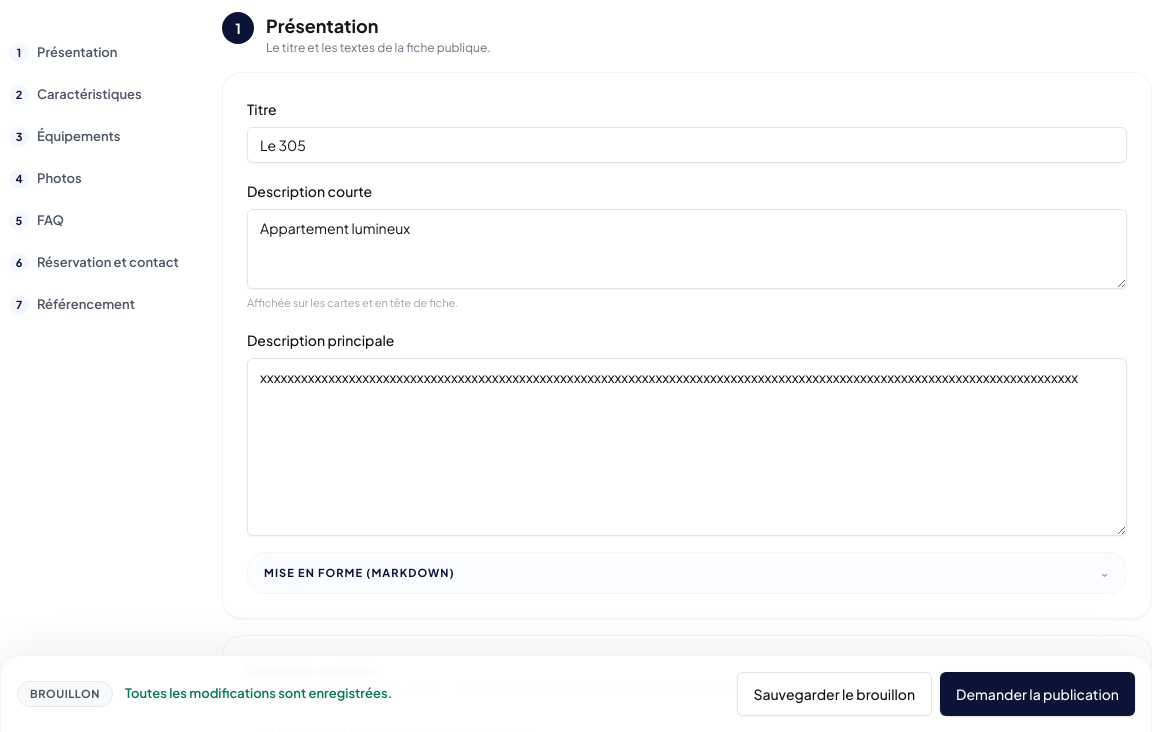
079 — page Logement › AC-03-03 : champs manquants en français
Click the button "Demander la publication": (1038, 694) top-left (940, 672), bottom-right (1135, 716)
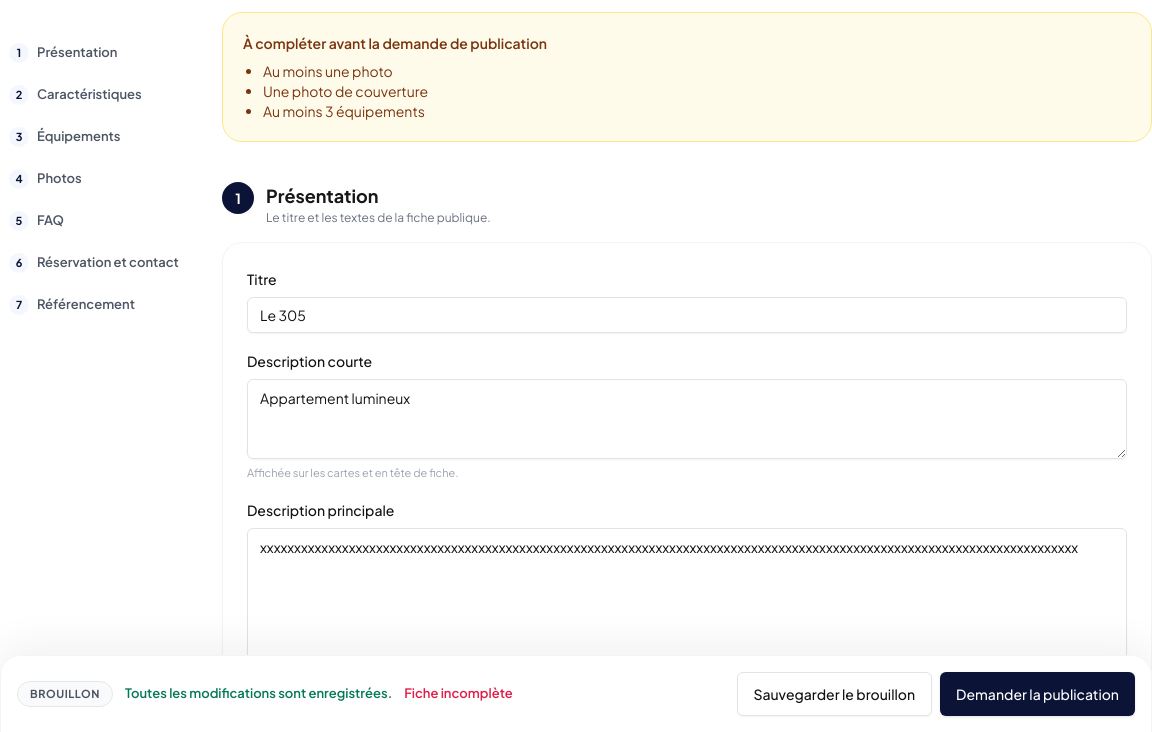
Result: the 1st message shows "Au moins une photo" at top-left (263, 62), bottom-right (393, 80)
Result: the 1st message shows "Une photo de couverture" at top-left (263, 82), bottom-right (428, 100)
Result: the 1st message shows "Au moins 3 équipements" at top-left (263, 102), bottom-right (425, 120)
